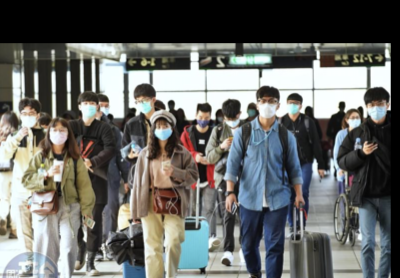with_mask: (366, 99, 388, 121), (257, 95, 277, 119), (152, 121, 173, 141), (19, 107, 36, 129), (48, 125, 67, 144), (134, 95, 152, 113), (80, 99, 97, 118), (286, 98, 300, 115), (224, 113, 239, 128), (195, 113, 210, 127), (348, 113, 361, 128), (97, 102, 110, 117), (246, 103, 257, 117), (216, 111, 224, 121)
